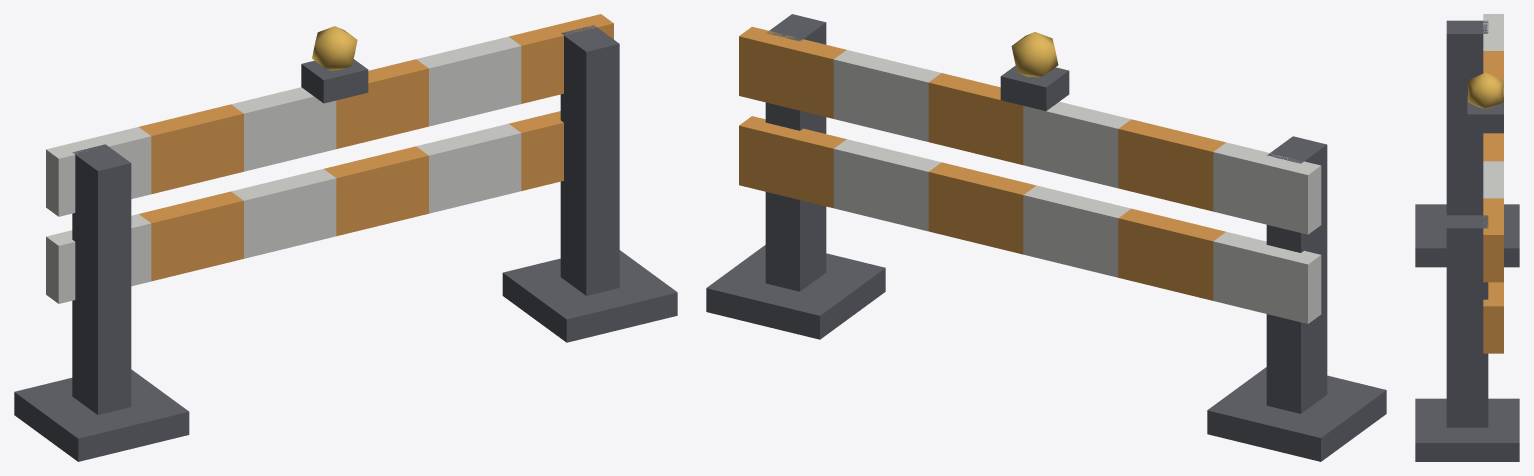
Rendered from noturno-barrier.glb.
3 renders of one model, left to right at view 1: azimuth 30°, elevation 25°; view 2: azimuth 150°, elevation 25°; view 3: azimuth 270°, elevation 25°, orthographic. The views are drawn at different scales.
Size of the model in its own units: 2.16 by 1.14 by 0.4.
